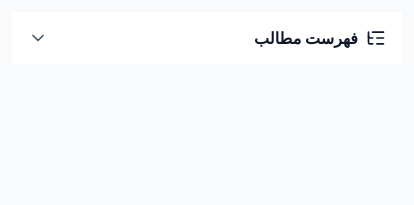
Test: PostToc › folds on phones behind a button that says whether it is open
The image size is (414, 205).
Click the button "فهرست مطالب" at (306, 38), box x1=12 y1=12 x2=402 y2=64
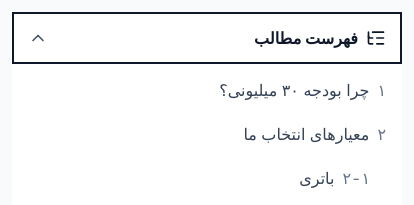
Expected: the button "فهرست مطالب" is expanded, x1=12 y1=12 x2=402 y2=64
